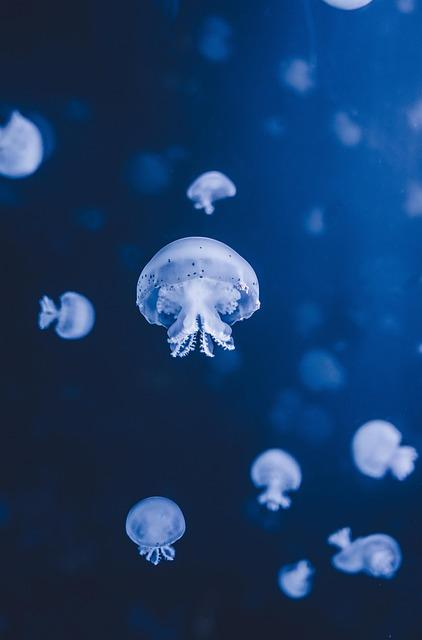Non_Gorille: (20, 82, 397, 575)
